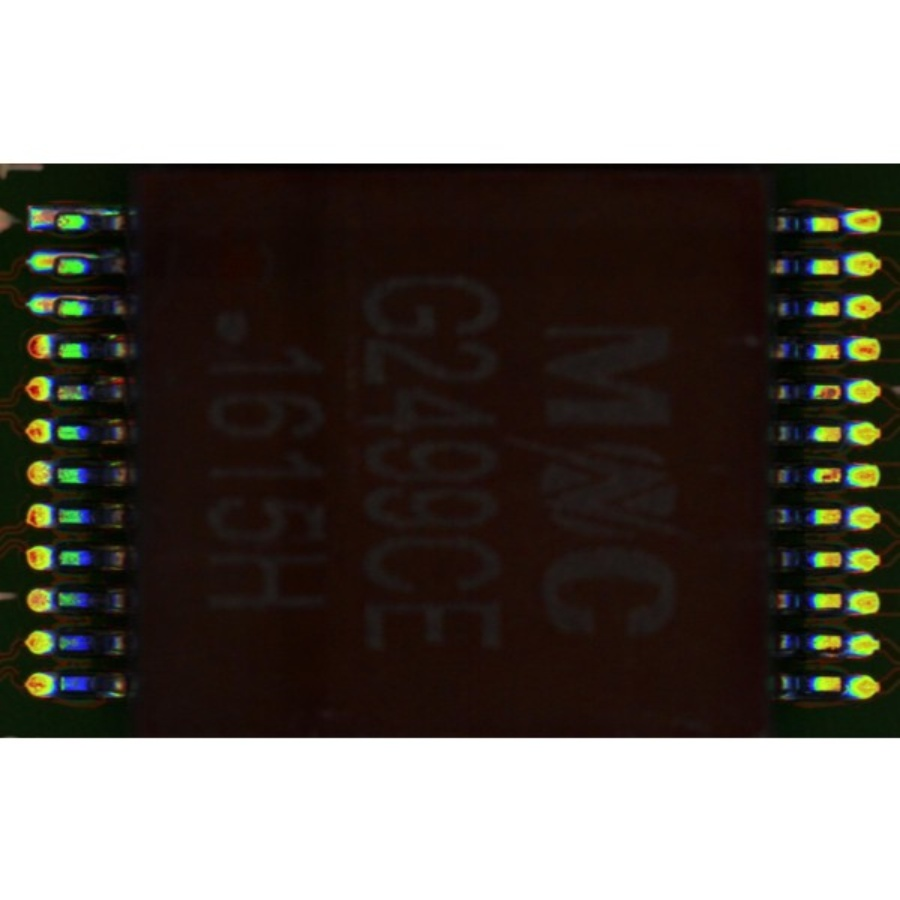Bad_podu: (48, 298, 65, 313), (48, 256, 65, 270), (49, 213, 67, 225)
Bad_qiaojiao: (58, 251, 105, 260), (57, 208, 121, 214), (58, 294, 100, 301)
